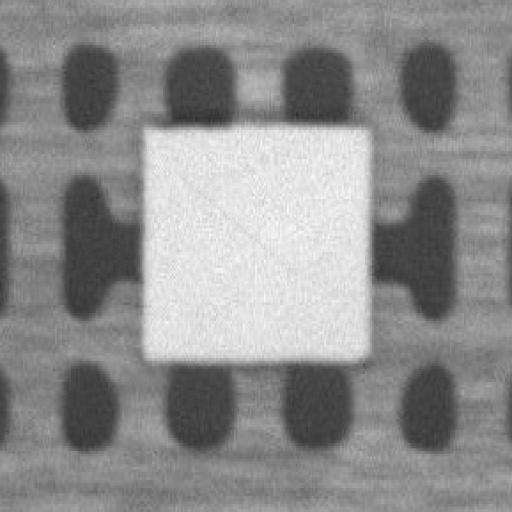DIE_CRACK: (257, 112, 443, 182)
